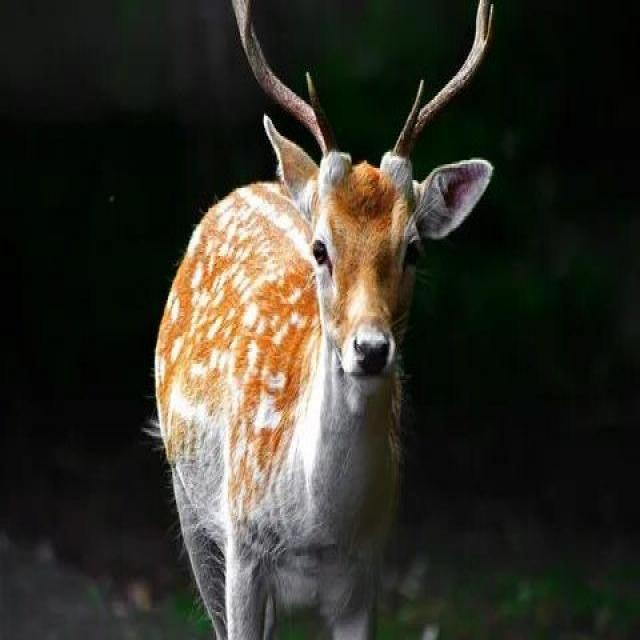deer: (134, 47, 538, 629)
